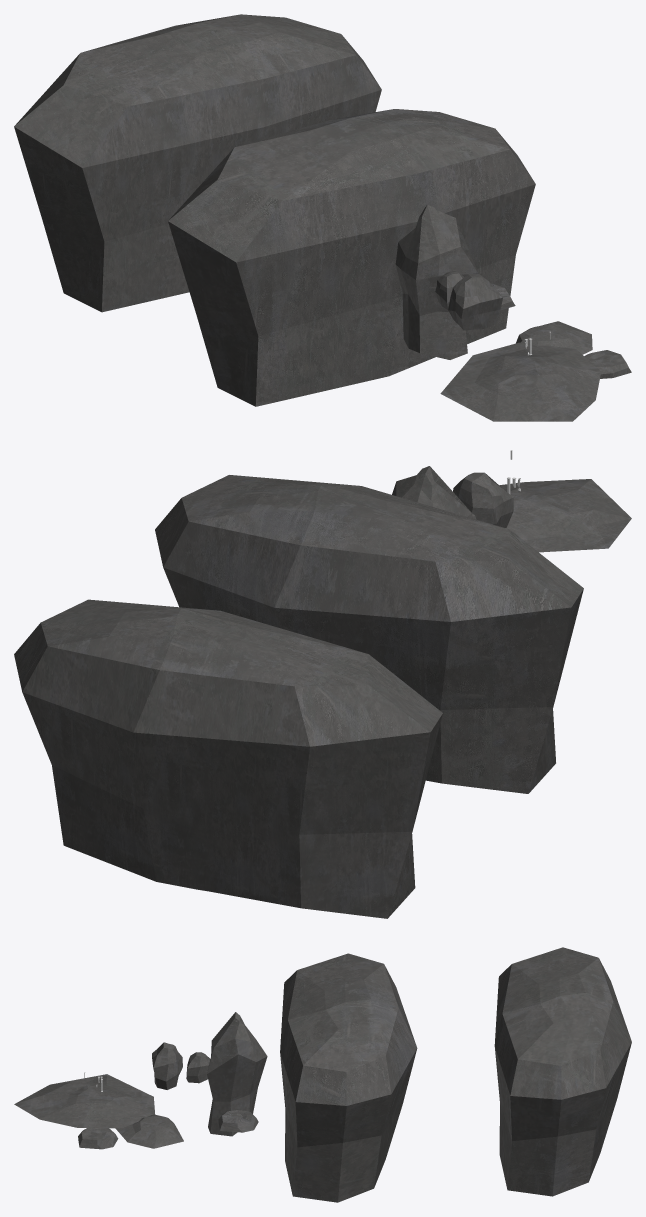
The model's file is rocks.glb.
3 renders of one model, top to bottom at view 1: azimuth 30°, elevation 25°; view 2: azimuth 150°, elevation 25°; view 3: azimuth 270°, elevation 25°, orthographic. The views are drawn at different scales.
Parts seen in each view (by area): view 1: Cube.007, Cube.008, Cube.003, Cube.005, Cube.006, Cube, Cube.001, Cube.002; view 2: Cube.008, Cube.007, Cube.003, Cube.006, Cube.005; view 3: Cube.008, Cube.007, Cube.003, Cube.005, Cube, Cube.006, Cube.004, Cube.001, Cube.002.
Part boxes in pixels (box(x1,y1,x2,y2)): Cube.007: box(168, 109, 535, 406); Cube.008: box(14, 14, 381, 312); Cube.003: box(440, 342, 601, 421); Cube.005: box(395, 205, 478, 359); Cube.006: box(448, 274, 503, 330); Cube: box(516, 321, 592, 354); Cube.001: box(584, 350, 631, 378); Cube.002: box(435, 271, 463, 309); Cube.008: box(14, 599, 442, 918); Cube.007: box(155, 475, 583, 793); Cube.003: box(499, 479, 631, 552); Cube.006: box(453, 472, 513, 527); Cube.005: box(392, 466, 472, 518); Cube.008: box(494, 947, 631, 1196); Cube.007: box(280, 953, 417, 1202); Cube.003: box(14, 1074, 155, 1128); Cube.005: box(207, 1012, 267, 1136); Cube: box(115, 1114, 183, 1148); Cube.006: box(152, 1042, 182, 1089); Cube.004: box(218, 1110, 258, 1132); Cube.001: box(78, 1127, 118, 1149); Cube.002: box(186, 1052, 210, 1083).
Size of the model in its own units: 459 by 274 by 847.
Materials: 5 (5 with a texture image).
